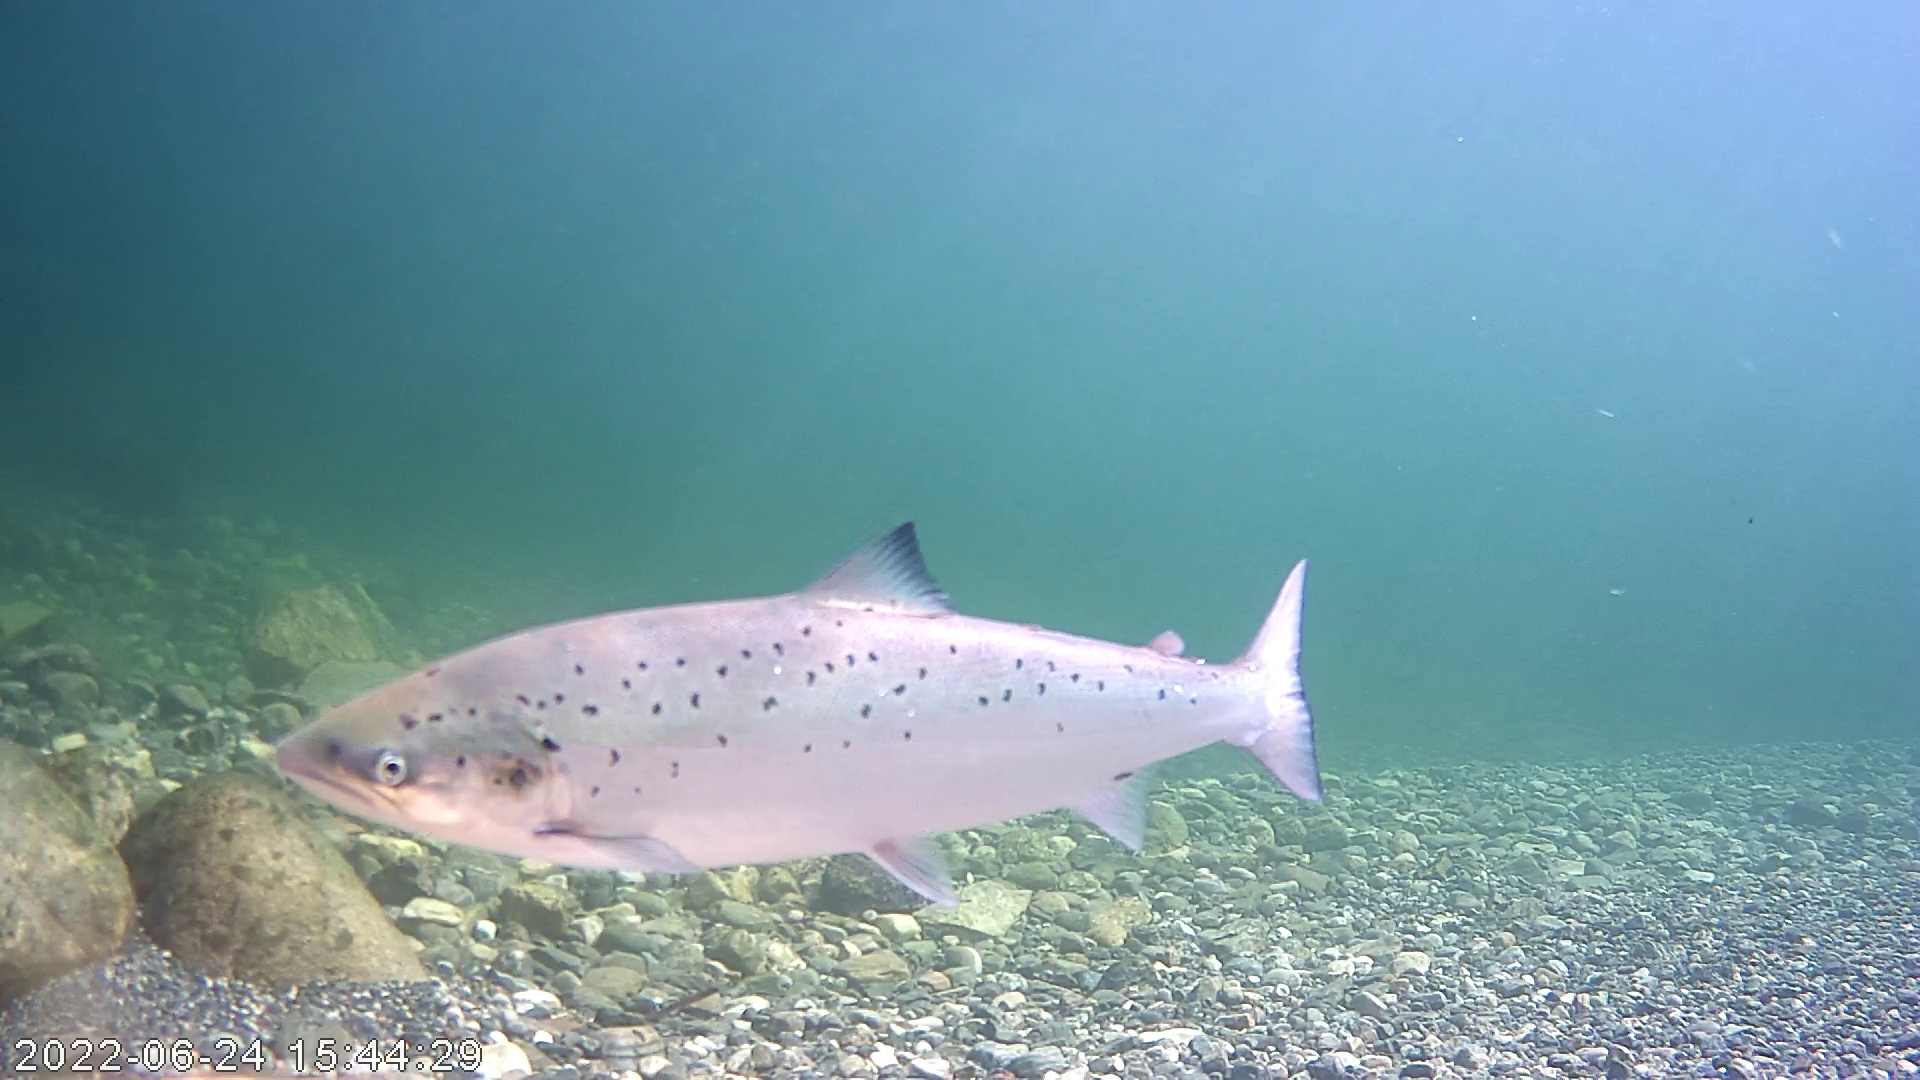salmon: (272, 520, 1325, 906)
